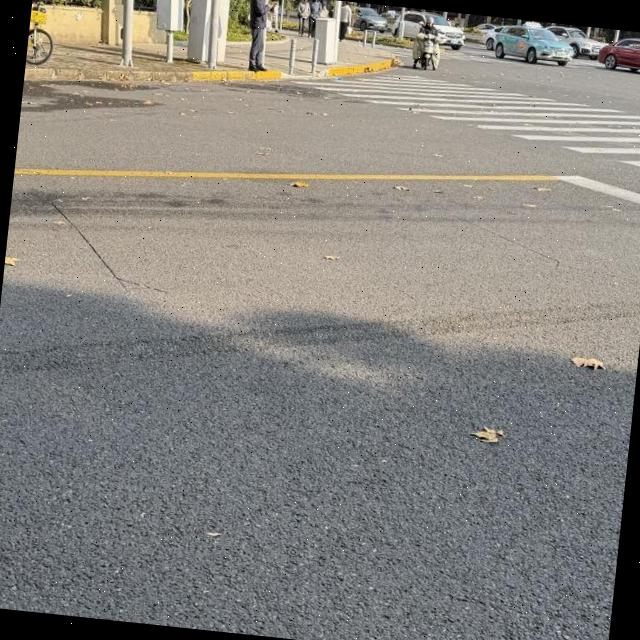curb: (23, 66, 289, 86), (326, 59, 392, 77)
